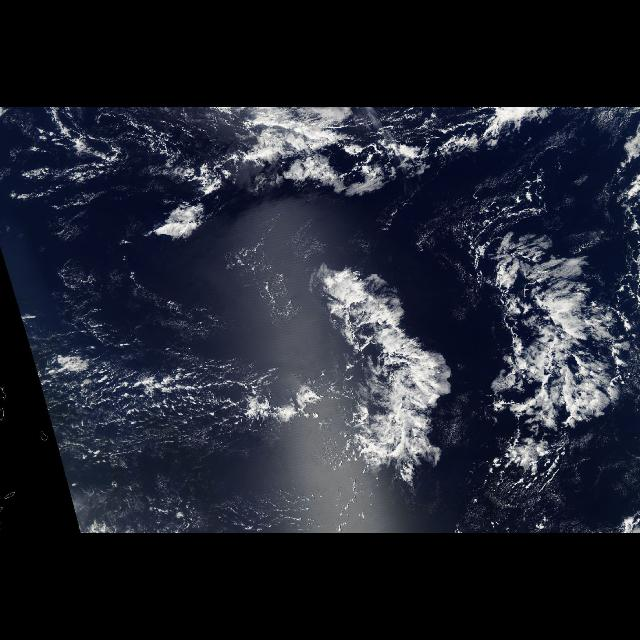Fish: (167, 108, 639, 510)
Gravel: (40, 329, 306, 481)
Sugar: (12, 292, 316, 532)
